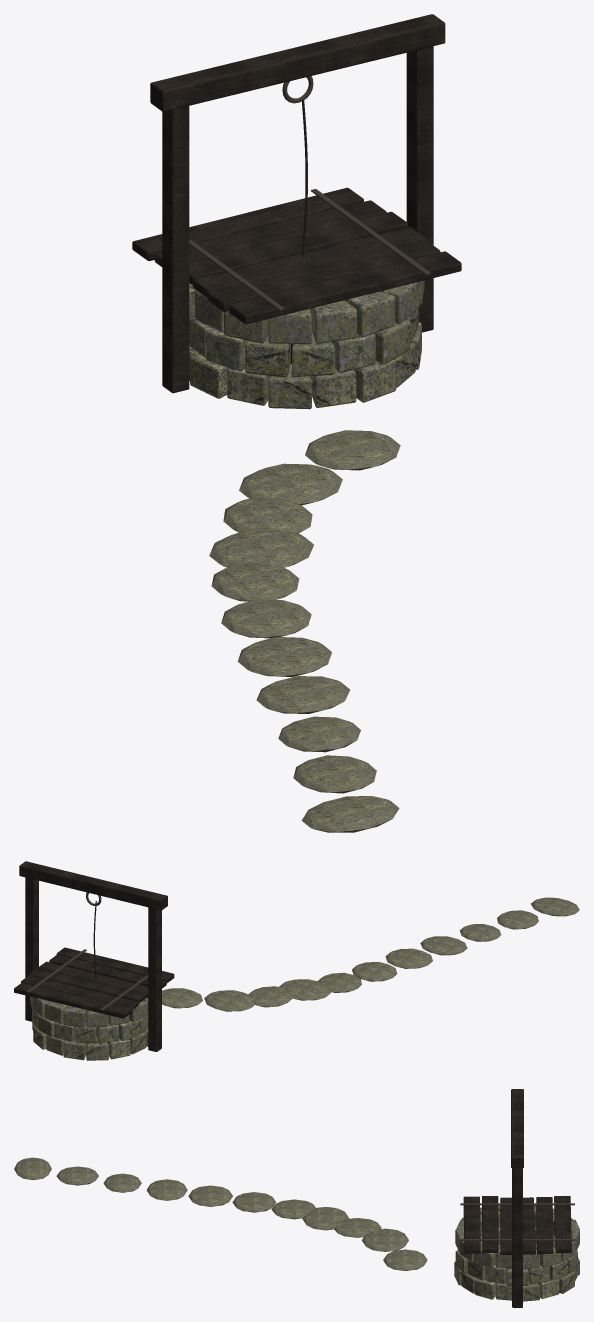
The model's file is well.glb.
3 views of the same model, one above another, from view 1: azimuth 30°, elevation 25°; view 2: azimuth 150°, elevation 25°; view 3: azimuth 270°, elevation 25° (orthographic). The views are drawn at different scales.
Parts seen in each view (by area): view 1: Well moss stone, Weathered sealing board, Rusted well pulley; view 2: Well moss stone, Weathered sealing board, Rusted well pulley; view 3: Well moss stone, Weathered sealing board, Rusted well pulley.
Part boxes in pixels (box(x1,y1,x2,y2)): Well moss stone: box(189, 280, 424, 832); Weathered sealing board: box(132, 14, 461, 393); Rusted well pulley: box(189, 76, 430, 310); Well moss stone: box(30, 897, 579, 1060); Weathered sealing board: box(14, 861, 174, 1051); Rusted well pulley: box(26, 892, 148, 1010); Well moss stone: box(14, 1157, 579, 1301); Weathered sealing board: box(463, 1089, 571, 1307); Rusted well pulley: box(460, 1203, 574, 1240).
Size of the model in its own units: 4.9 by 2.34 by 7.78.
Materials: 5 (3 with a texture image).
